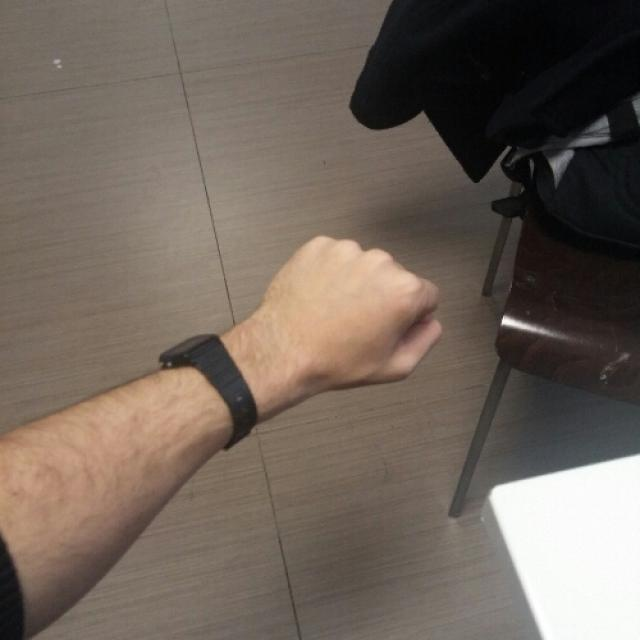rock: (261, 231, 445, 386)
